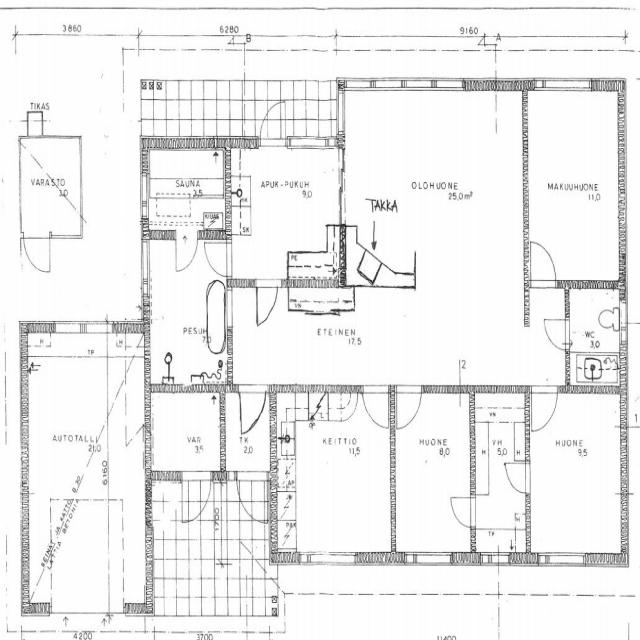door: (236, 471, 268, 527), (182, 471, 211, 525), (238, 385, 266, 436), (260, 96, 286, 149), (23, 235, 50, 281), (362, 386, 388, 432), (531, 241, 556, 288), (532, 386, 557, 432), (397, 385, 421, 431), (256, 279, 280, 325), (175, 231, 198, 274), (204, 242, 232, 276), (544, 319, 570, 351), (505, 463, 531, 494), (449, 498, 475, 528)
